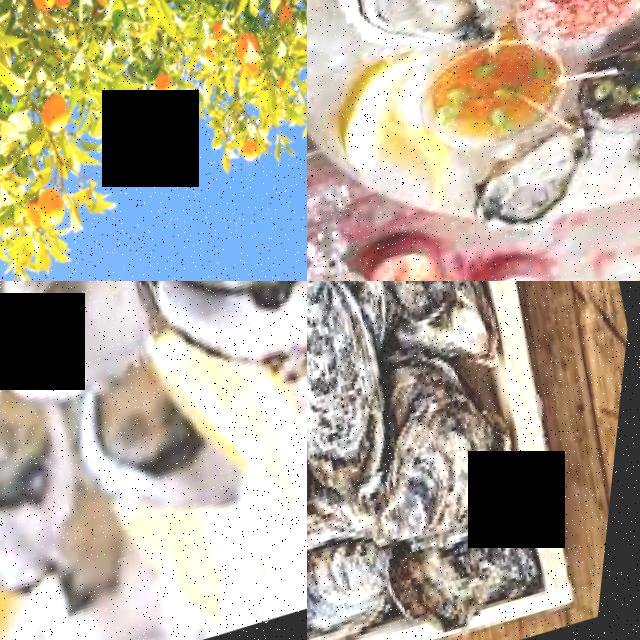lemon: (326, 62, 424, 186)
orange: (39, 182, 83, 235), (41, 89, 82, 139), (156, 68, 185, 103), (133, 88, 160, 123), (30, 0, 65, 17)
oysters: (355, 382, 544, 567), (57, 357, 228, 546), (307, 281, 425, 505), (0, 388, 120, 602), (0, 281, 170, 423), (462, 132, 615, 247), (155, 281, 307, 392), (316, 0, 500, 77), (307, 523, 415, 640), (339, 281, 526, 330)
